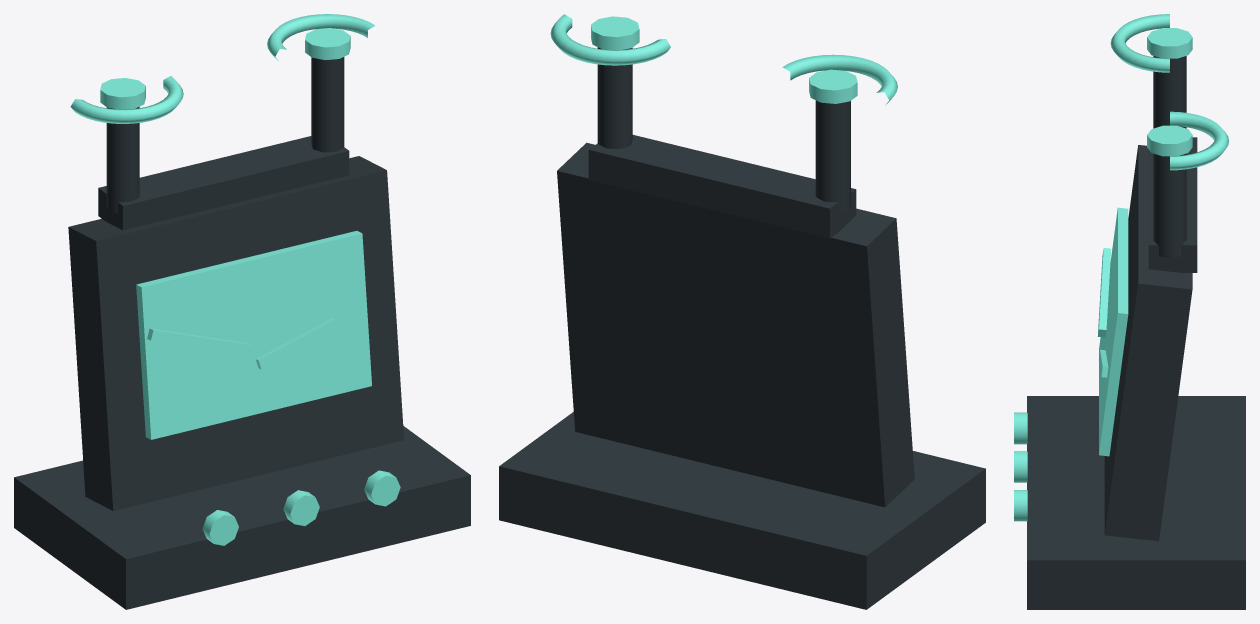
File: exhibit-contact-terminal.v1.glb
The picture shows the model from 3 angles, left to right: view 1: azimuth 30°, elevation 25°; view 2: azimuth 150°, elevation 25°; view 3: azimuth 270°, elevation 25°; orthographic projection. The views are drawn at different scales.
Parts seen in each view (by area): view 1: ContactTerminalStructure, ContactTerminalSignal; view 2: ContactTerminalStructure, ContactTerminalSignal; view 3: ContactTerminalStructure, ContactTerminalSignal.
Part boxes in pixels (x1,y1,x2,y2): ContactTerminalStructure: [14, 57, 470, 609]; ContactTerminalSignal: [70, 14, 400, 545]; ContactTerminalStructure: [499, 47, 985, 609]; ContactTerminalSignal: [550, 14, 897, 105]; ContactTerminalStructure: [1027, 56, 1245, 609]; ContactTerminalSignal: [1014, 14, 1228, 521].
Size of the model in its own units: 1.28 by 1.6 by 0.7625.
